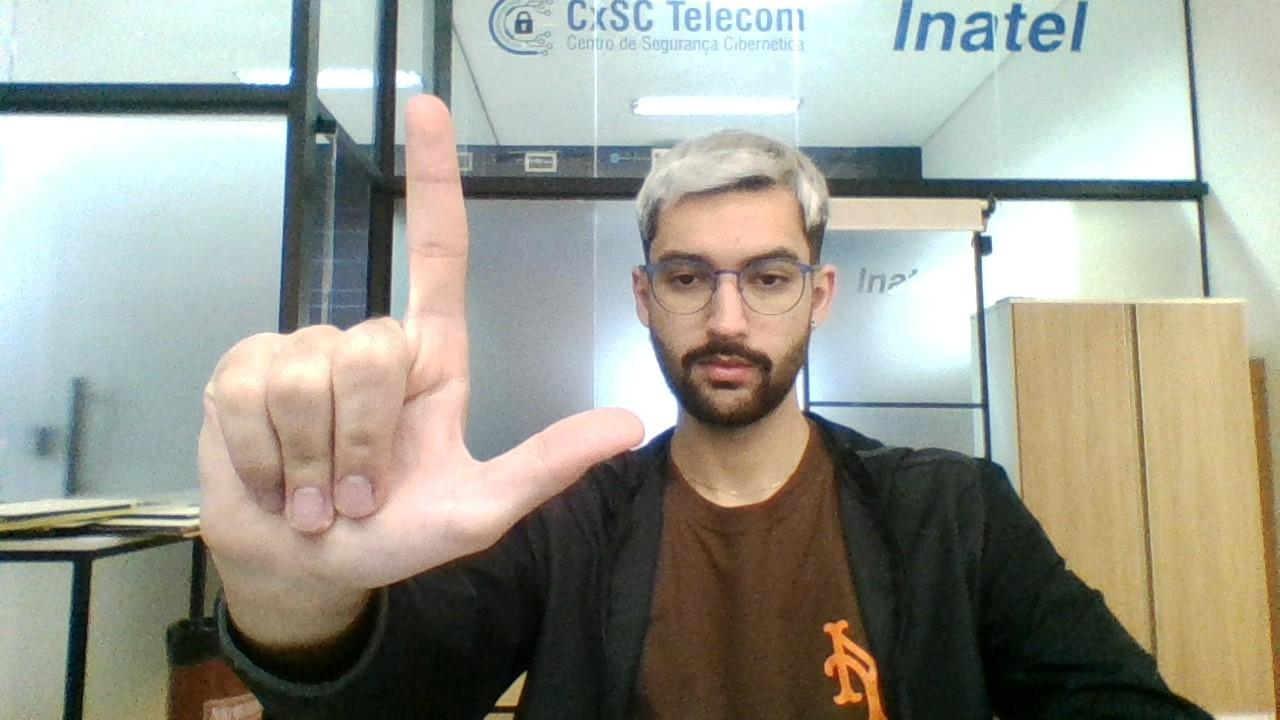L: (186, 82, 646, 592)
